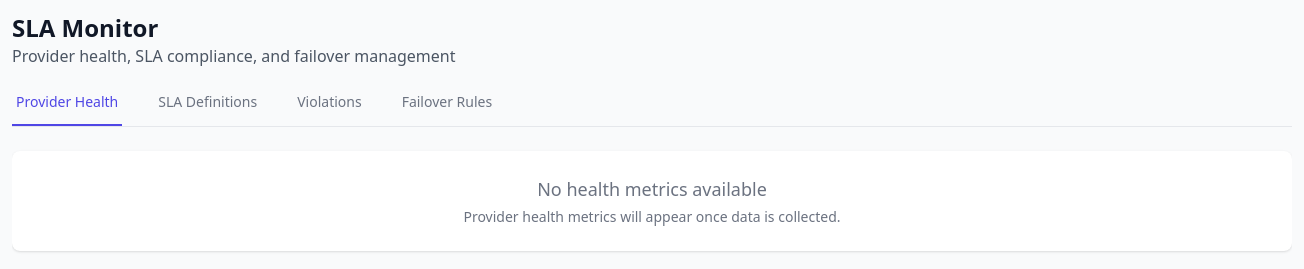
SLAMonitoring › switches to SLA Definitions tab and shows empty state
Click the button "SLA Definitions": (208, 109) top-left (154, 92), bottom-right (261, 126)
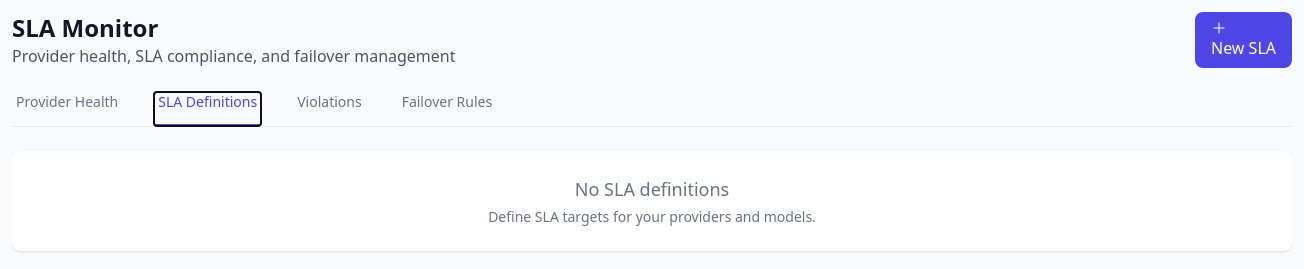
expect the text "No SLA definitions" is shown: met, box top-left (575, 177), bottom-right (729, 201)
expect the text "Define SLA targets for your providers and models." is shown: met, box top-left (488, 207), bottom-right (816, 226)
